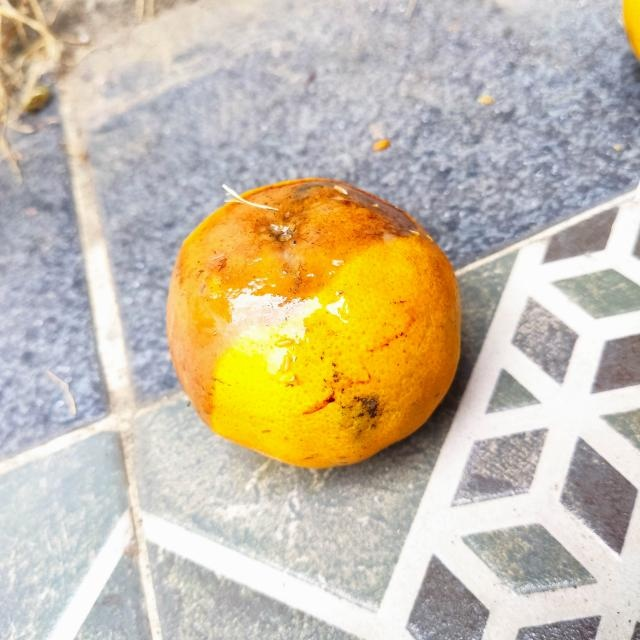agrume: (164, 176, 464, 468)
